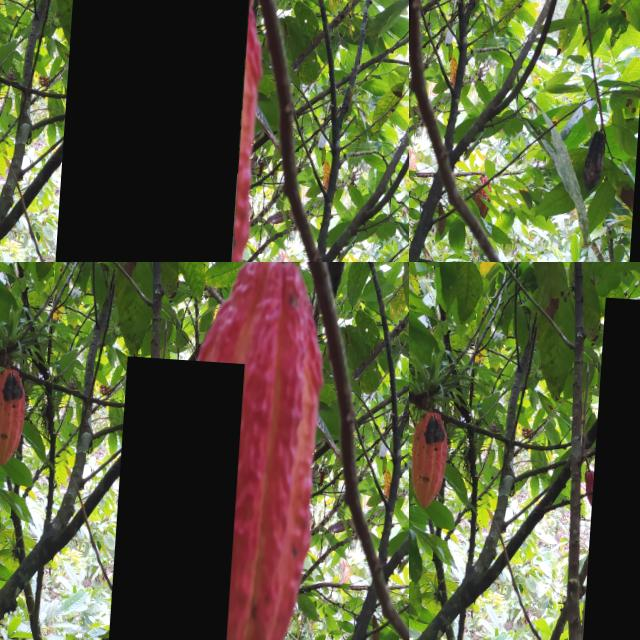Fitoftora: (51, 0, 253, 262), (413, 407, 453, 507)
Monilia: (111, 354, 248, 640)
Sana: (583, 294, 640, 640), (588, 456, 606, 506)
